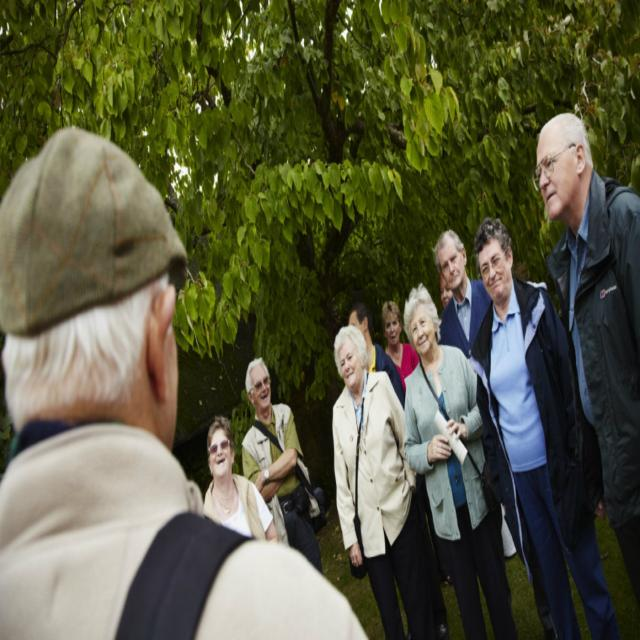body: (0, 125, 372, 640), (470, 214, 622, 640), (530, 108, 639, 612), (402, 283, 524, 639), (332, 323, 436, 638), (241, 356, 330, 578), (202, 413, 279, 543), (433, 229, 493, 358), (347, 300, 406, 412), (380, 300, 420, 398), (510, 228, 549, 284), (434, 268, 453, 343)
